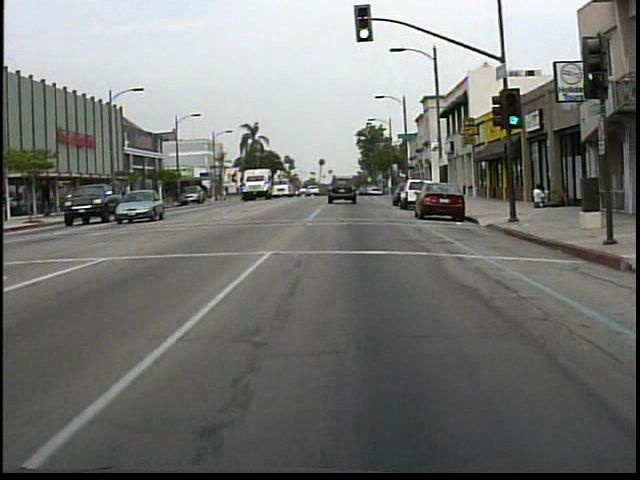person: (528, 182, 546, 210)
